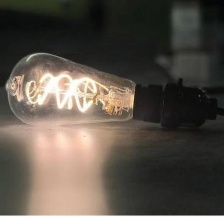light_bulb: (0, 50, 224, 138)
